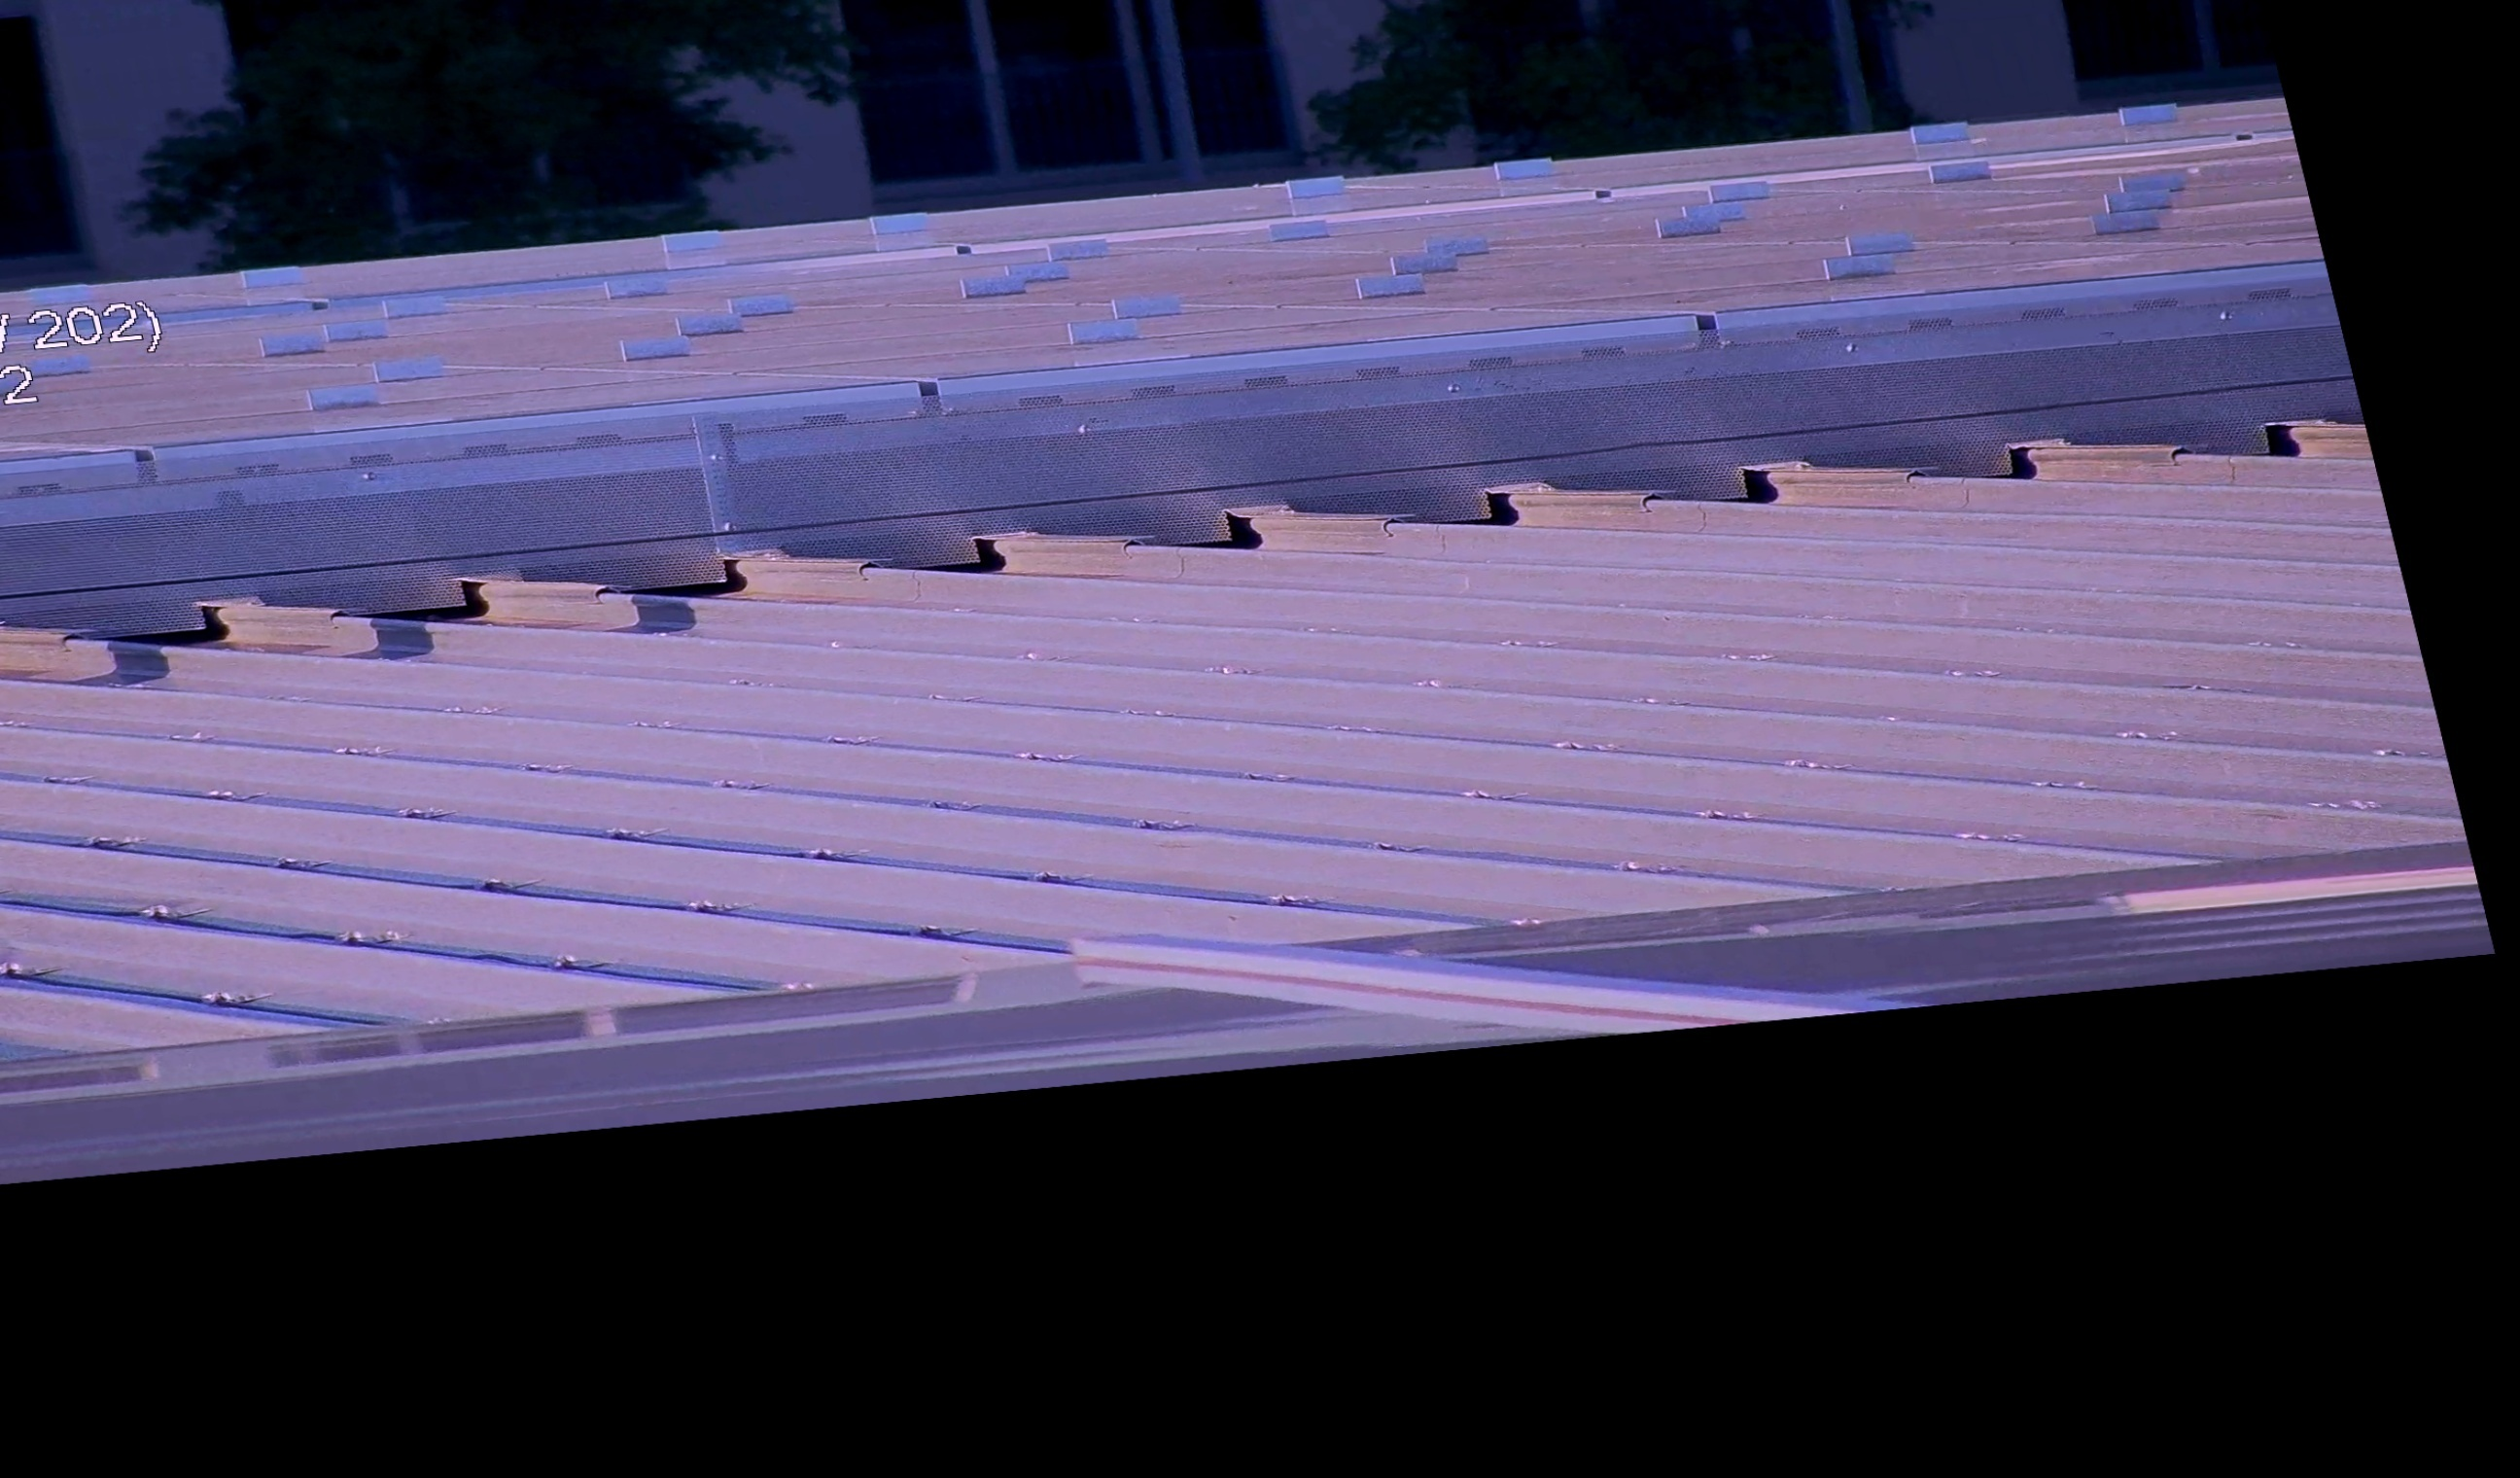Other: (1196, 501, 1268, 558)
